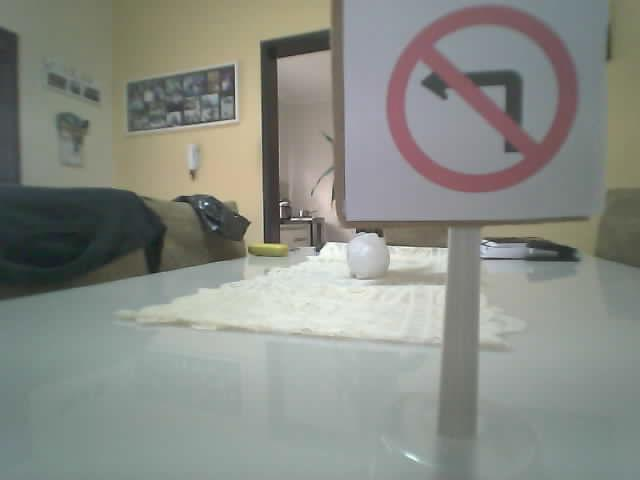R-4a_proibido-esquerda: (385, 5, 578, 192)
